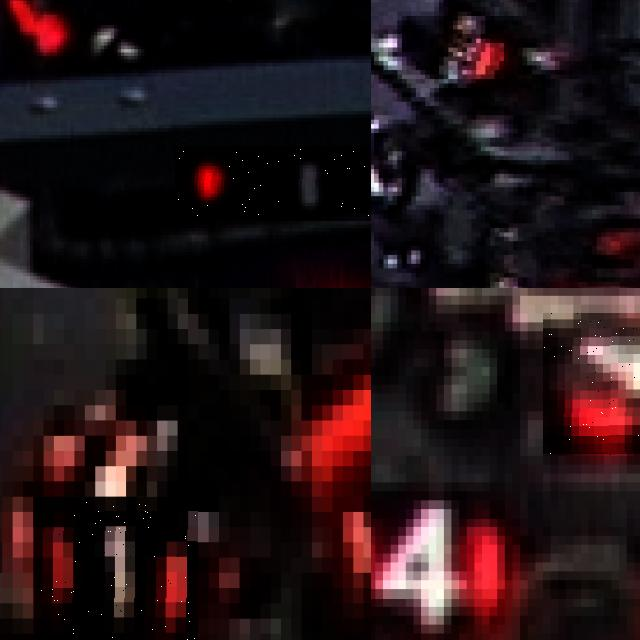R1: (33, 496, 198, 640), (174, 145, 371, 221), (343, 420, 371, 588)
R2: (428, 7, 520, 93)
R4: (371, 500, 504, 633), (542, 313, 640, 455)
